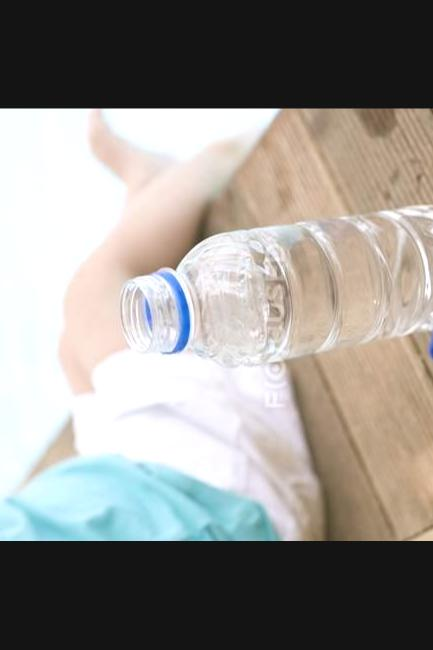bottle: (111, 194, 433, 392)
